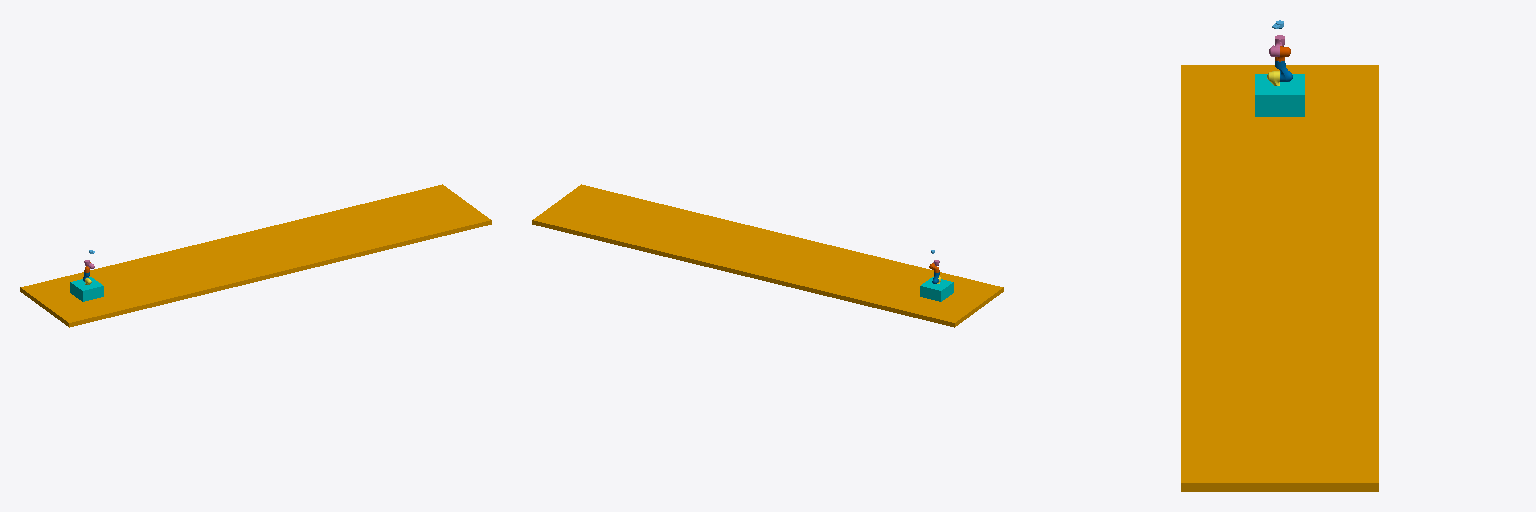
robot.urdf — panda:
<?xml version="1.0" ?>
<robot name="panda">

  <link name="floor">
    <visual>
      <origin xyz="4 0 -0.05"/>
      <geometry>
        <box size="10 2 0.1"/>
      </geometry>
    </visual>
  </link>

  <link name="box">
  <visual>
    <geometry>
      <box size=".5 .5 .5"/>
    </geometry>
    <material name="green">
      <color rgba="0 0.8 .8 .8"/>
    </material>
  </visual>
  <inertial>
    <mass value="1."/>
    <inertia ixx="1." ixy="0." ixz="0." iyy="1." iyz="0." izz="1."/>
  </inertial>
  <!-- TODO this is not at the right place -->
  <collision>
    <geometry>
      <sphere radius="0"/>
    </geometry>
  </collision>
  </link>
  <joint name="floor_to_box" type="fixed">
    <parent link="floor"/>
    <child link="box"/>
    <origin xyz="0 0 0"/>
  </joint>

  <link name="panda_link0">
    <visual>
      <geometry>
        <mesh filename="../urdf/panda/meshes/link0.obj"/>
      </geometry>
    </visual>
    <inertial>
      <mass value="0.1" />
      <inertia ixx="0.03" iyy="0.03" izz="0.03" ixy="0.0" ixz="0.0" iyz="0.0" />
    </inertial>
  </link>
  <joint name="panda_joint0" type="fixed">
    <origin rpy="1.57079632679 0 0" xyz="0 0 0"/>
    <parent link="floor"/>
    <child link="panda_link0"/>
  </joint>

  <link name="panda_link1">
    <visual>
      <geometry>
        <mesh filename="../urdf/panda/meshes/link1.obj"/>
      </geometry>
    </visual>
    <inertial>
      <mass value="0.1" />
      <inertia ixx="0.03" iyy="0.03" izz="0.03" ixy="0.0" ixz="0.0" iyz="0.0" />
    </inertial>
  </link>
  <joint name="panda_joint1" type="revolute">
    <origin rpy="0 0 0" xyz="0 .333 0"/>
    <parent link="panda_link0"/>
    <child link="panda_link1"/>
    <axis xyz="0 1 0"/>
  </joint>

  <link name="panda_link2">
    <visual>
      <geometry>
        <mesh filename="../urdf/panda/meshes/link2.obj"/>
      </geometry>
    </visual>
    <inertial>
      <mass value="0.1" />
      <inertia ixx="0.03" iyy="0.03" izz="0.03" ixy="0.0" ixz="0.0" iyz="0.0" />
    </inertial>
  </link>
  <joint name="panda_joint2" type="revolute">
    <origin rpy="-1.57079632679 0 0" xyz="0 0 0"/>
    <parent link="panda_link1"/>
    <child link="panda_link2"/>
    <axis xyz="0 1 0"/>
  </joint>

  <link name="panda_link3">
    <visual>
      <geometry>
        <mesh filename="../urdf/panda/meshes/link3.obj"/>
      </geometry>
    </visual>
    <inertial>
      <mass value="0.1" />
      <inertia ixx="0.03" iyy="0.03" izz="0.03" ixy="0.0" ixz="0.0" iyz="0.0" />
    </inertial>
  </link>
  <joint name="panda_joint3" type="revolute">
    <origin rpy="1.57079632679 0 0" xyz="0 0 0.316"/>
    <parent link="panda_link2"/>
    <child link="panda_link3"/>
    <axis xyz="0 1 0"/>
  </joint>

  <link name="panda_link4">
    <visual>
      <geometry>
        <mesh filename="../urdf/panda/meshes/link4.obj"/>
      </geometry>
    </visual>
    <inertial>
      <mass value="0.1" />
      <inertia ixx="0.03" iyy="0.03" izz="0.03" ixy="0.0" ixz="0.0" iyz="0.0" />
    </inertial>
  </link>
  <joint name="panda_joint4" type="revolute">
    <origin rpy="1.57079632679 0 0" xyz="0.0825 0 0"/>
    <parent link="panda_link3"/>
    <child link="panda_link4"/>
    <axis xyz="0 1 0"/>
  </joint>

  <link name="panda_link5">
    <visual>
      <geometry>
        <mesh filename="../urdf/panda/meshes/link5.obj"/>
      </geometry>
    </visual>
    <inertial>
      <mass value="0.1" />
      <inertia ixx="0.03" iyy="0.03" izz="0.03" ixy="0.0" ixz="0.0" iyz="0.0" />
    </inertial>
  </link>
  <joint name="panda_joint5" type="revolute">
    <origin rpy="-1.57079632679 0 0" xyz="-0.0825 0 -0.384"/>
    <parent link="panda_link4"/>
    <child link="panda_link5"/>
    <axis xyz="0 1 0"/>
  </joint>

  <link name="panda_link6">
    <visual>
      <geometry>
        <mesh filename="../urdf/panda/meshes/link6.obj"/>
      </geometry>
    </visual>
    <inertial>
      <mass value="0.1" />
      <inertia ixx="0.03" iyy="0.03" izz="0.03" ixy="0.0" ixz="0.0" iyz="0.0" />
    </inertial>
  </link>
  <joint name="panda_joint6" type="revolute">
    <origin rpy="1.57079632679 0 0" xyz="0 0 0"/>
    <parent link="panda_link5"/>
    <child link="panda_link6"/>
    <axis xyz="0 1 0"/>
  </joint>

  <link name="panda_link7">
    <visual>
      <geometry>
        <mesh filename="../urdf/panda/meshes/link7.obj"/>
      </geometry>
    </visual>
    <inertial>
      <mass value="0.1" />
      <inertia ixx="0.03" iyy="0.03" izz="0.03" ixy="0.0" ixz="0.0" iyz="0.0" />
    </inertial>
  </link>
  <joint name="panda_joint7" type="revolute">
    <origin rpy="1.57079632679 0 0" xyz="0.088 0 0"/>
    <parent link="panda_link6"/>
    <child link="panda_link7"/>
    <axis xyz="0 1 0"/>
  </joint>

  <link name="pusher">
    <visual>
      <geometry>
        <sphere radius=".025"/>
      </geometry>
      <material name="blue">
        <color rgba="0 0.4 .6 1."/>
      </material>
    </visual>
    <inertial>
      <mass value="0.1" />
      <inertia ixx="0.03" iyy="0.03" izz="0.03" ixy="0.0" ixz="0.0" iyz="0.0" />
    </inertial>
    <collision>
      <geometry>
        <sphere radius="0"/>
      </geometry>
    </collision>
  </link>
  <joint name="panda_joint8" type="fixed">
    <origin rpy="0 0 0" xyz="0 .1 0"/>
    <parent link="panda_link7"/>
    <child link="pusher"/>
  </joint>
</robot>

--- Facts derived from the render (not from the file) ---
The picture shows the robot from 3 angles, left to right: view 1: azimuth 30°, elevation 25°; view 2: azimuth 150°, elevation 25°; view 3: azimuth 270°, elevation 25°; orthographic projection.
Robot: panda — 11 links, 10 joints (7 revolute, 3 fixed); root link floor; default pose: all joints at 0.
Visible links, largest first — view 1: floor, box; view 2: floor, box; view 3: floor, box.
Link boxes in pixels (x1,y1,x2,y2): floor: (20, 184, 491, 327); box: (70, 277, 103, 301); floor: (532, 184, 1003, 327); box: (920, 277, 953, 301); floor: (1181, 65, 1378, 491); box: (1255, 74, 1304, 116).
Size in the robot's own frame: 10 by 2 by 1.23 metres.
5 mesh visuals loaded from 8 distinct referenced files (5 OBJ); not drawn: 3 (reference not matched to a file when rendering).